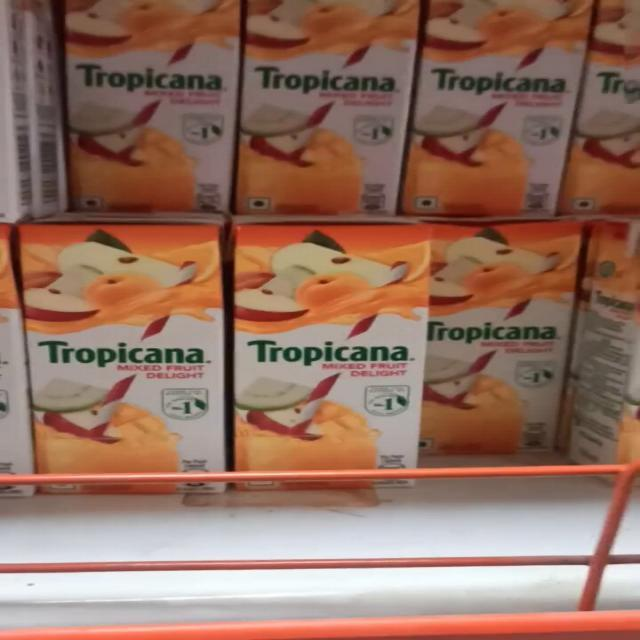Tropicana: (234, 215, 436, 490), (28, 215, 228, 490), (234, 0, 416, 209), (57, 2, 231, 208), (424, 0, 582, 215)
